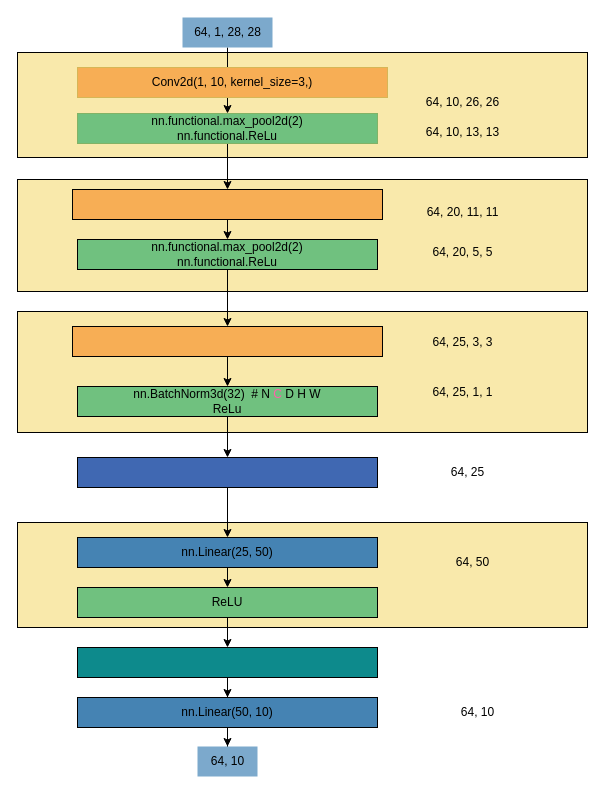
The diagram is 605 pixels wide and 793 high, and some of its shapes have lost their labels. The shapes that lost their labels are listed below. From the top down, each one's box as (x1, y1, x2, y2) in pixels, then its label:
(72, 188, 382, 220): Conv2d(10, 20, kernel_size=3,)
(72, 326, 382, 356): Conv2d(20, 25, kernel_size=3,)
(76, 456, 378, 488): nn.Flatten()
(76, 646, 378, 678): Dropout(0.5)
